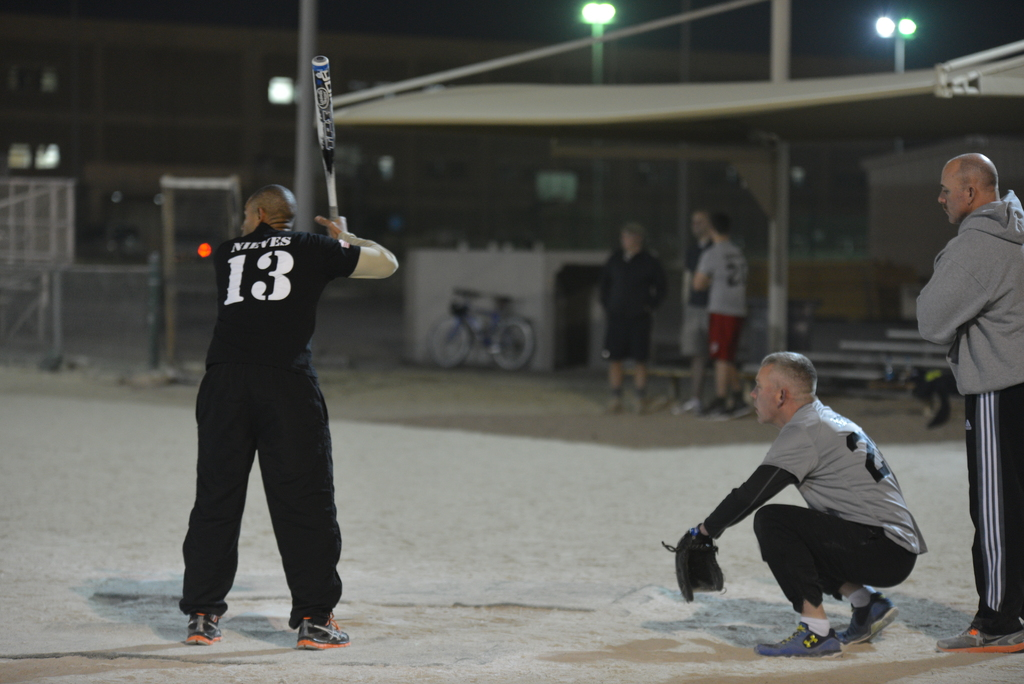Footwear: (843, 592, 900, 645), (753, 625, 840, 659), (942, 625, 1023, 647), (302, 619, 353, 651), (186, 615, 228, 645), (672, 396, 702, 415), (728, 395, 753, 415), (701, 402, 727, 420), (628, 398, 648, 414), (605, 399, 622, 416)
